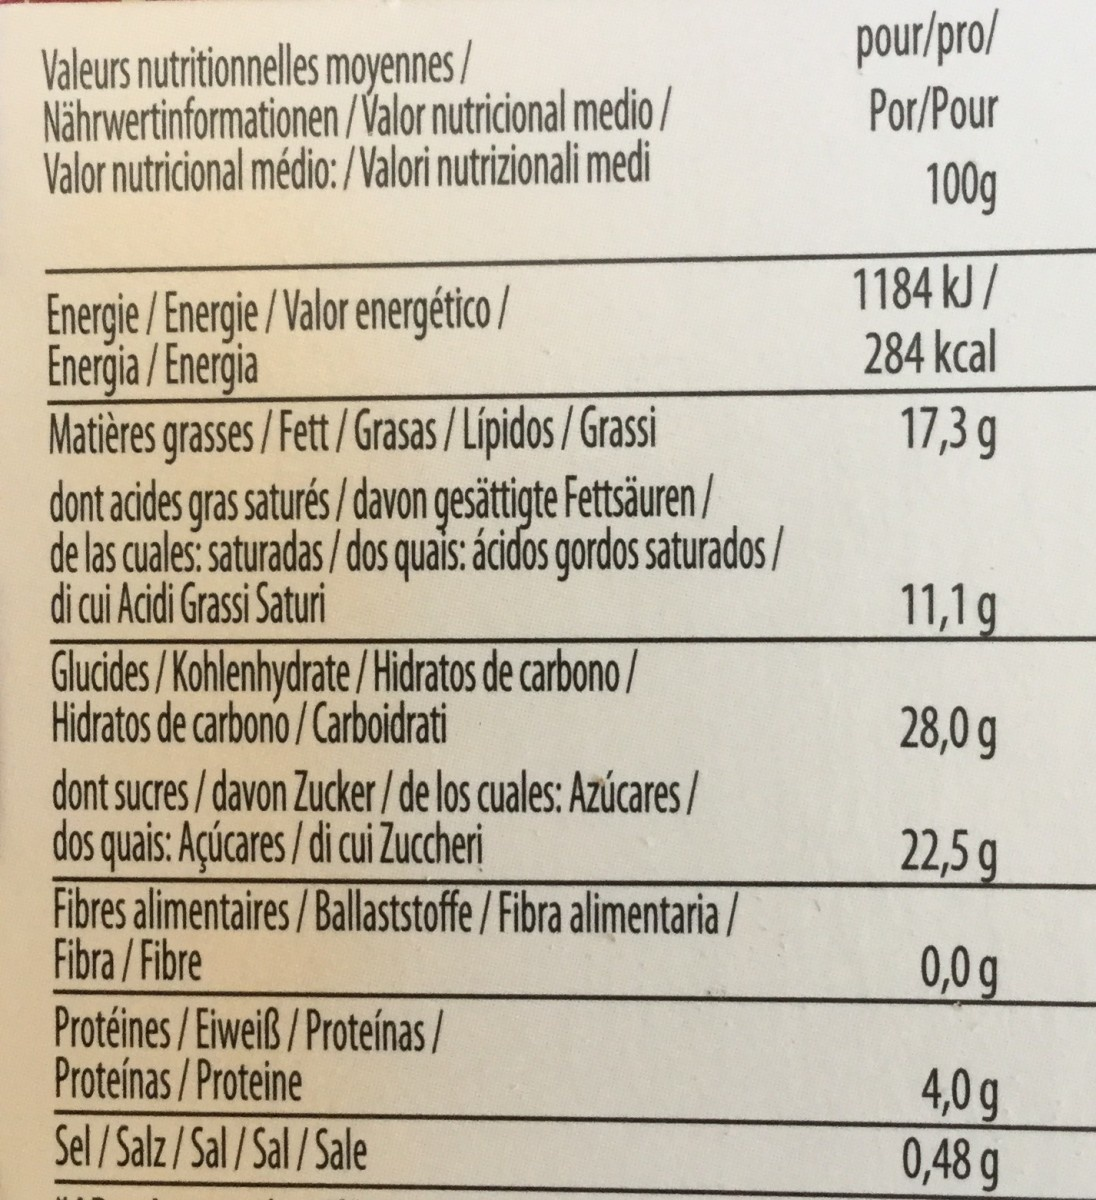column: (47, 30, 783, 1172), (841, 15, 1003, 1181)
table: (32, 10, 1007, 1190)
